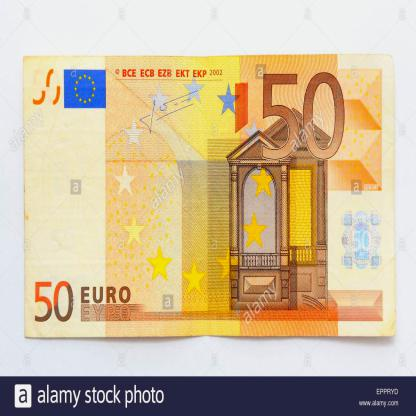euro_banknote: (24, 55, 397, 338)
